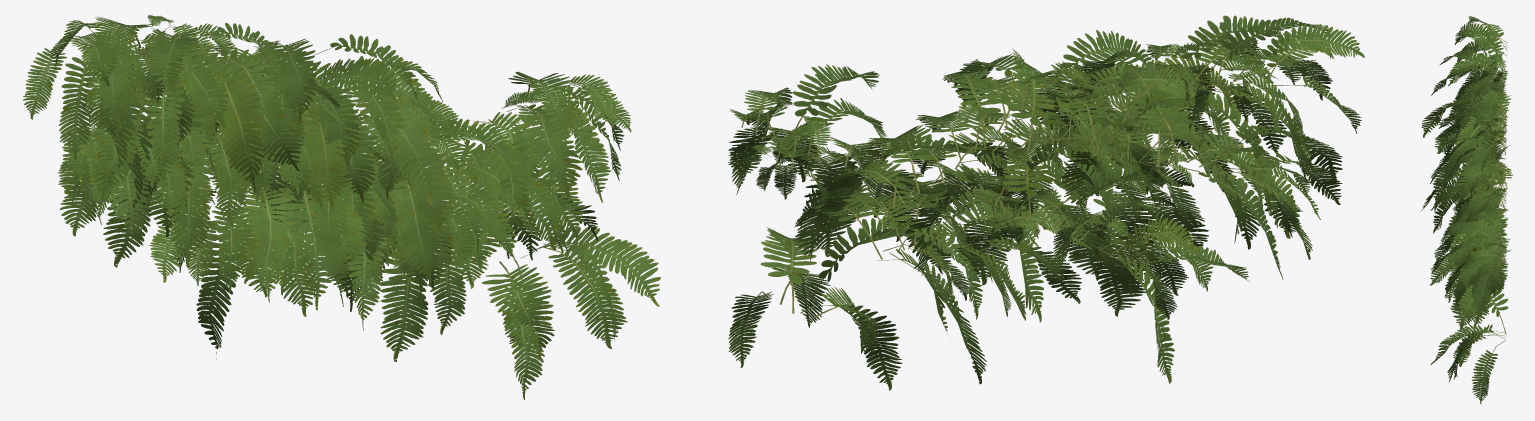
Rendered from fern.glb.
3 renders of one model, left to right at view 1: azimuth 30°, elevation 25°; view 2: azimuth 150°, elevation 25°; view 3: azimuth 270°, elevation 25°, orthographic. The views are drawn at different scales.
Parts seen in each view (by area): view 1: fern; view 2: fern; view 3: fern.
Boxes of the visible parts, bbox=[...] form: fern: bbox=[23, 15, 660, 399]; fern: bbox=[728, 15, 1364, 390]; fern: bbox=[1421, 16, 1513, 404].
Bounding box in the file's own units: 1.33 × 0.9605 × 0.3864.
1 material, 1 textured.
